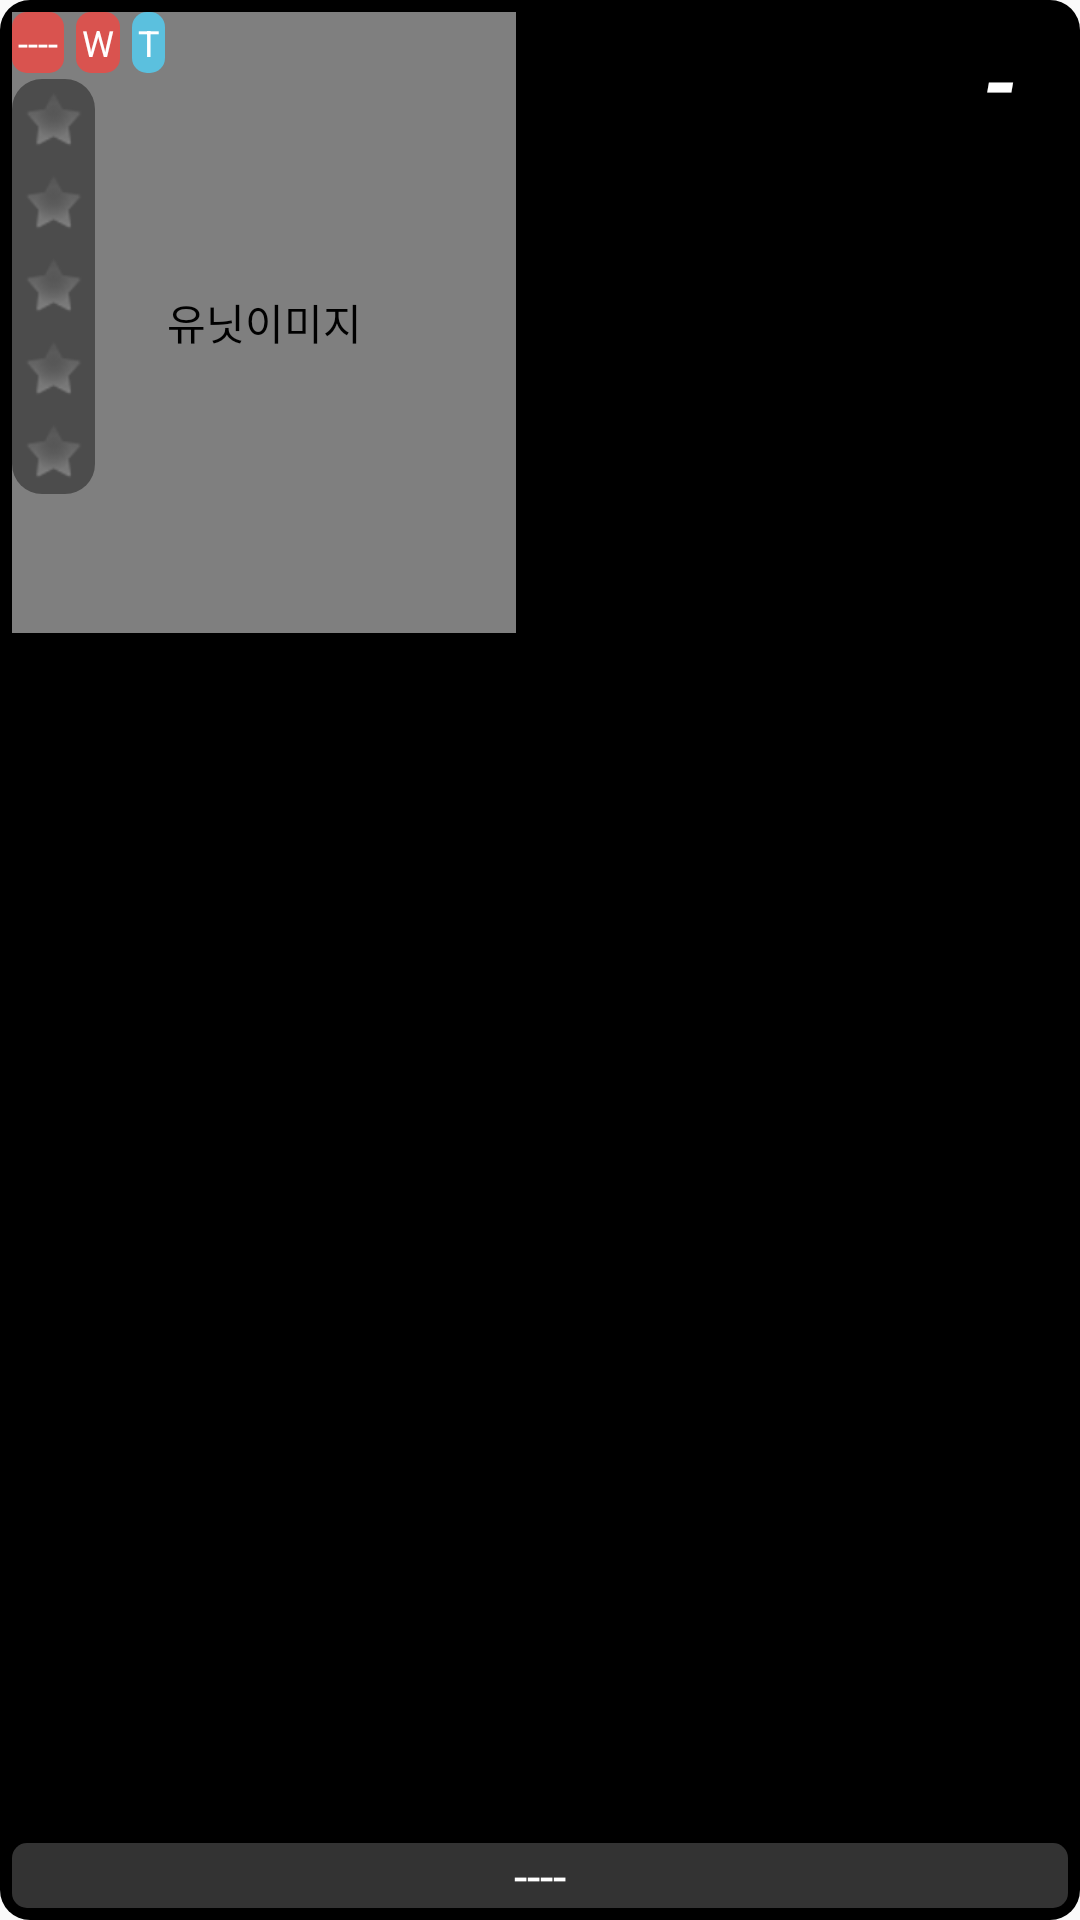

Icons on this 1080w x 1920h Android screen, each with the point to tap as (x,y):
star off: (53,120), (53,211), (54,295), (53,378), (53,452)
